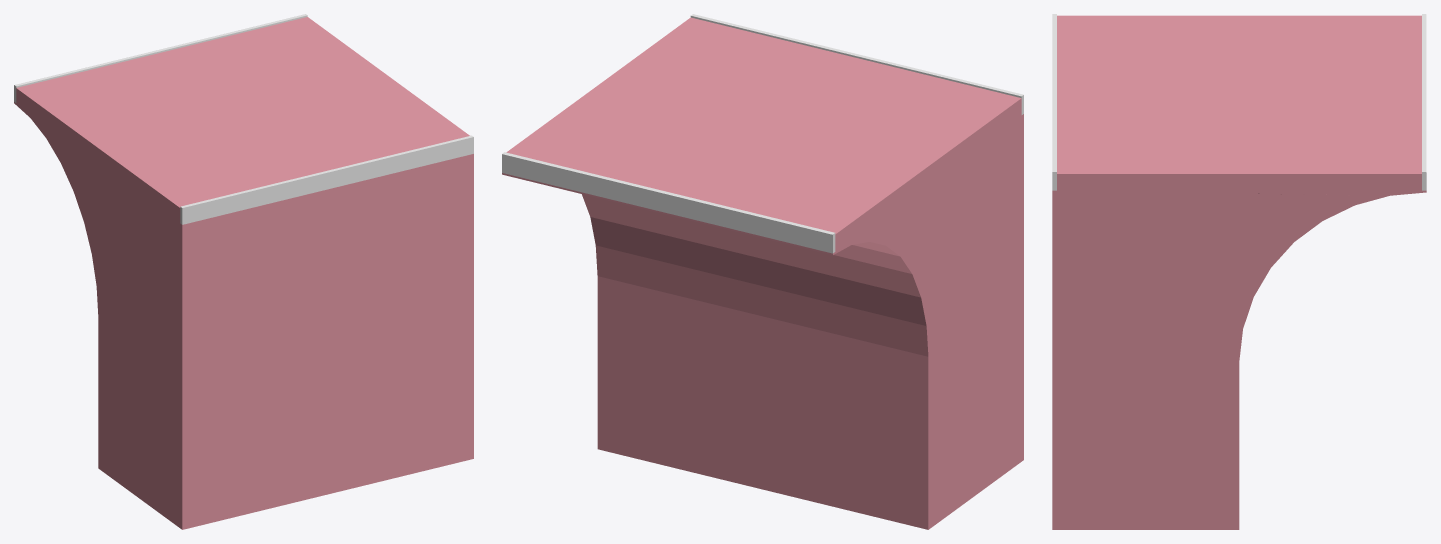
The model's file is table.fbx.
The picture shows the model from 3 angles, left to right: view 1: azimuth 30°, elevation 25°; view 2: azimuth 150°, elevation 25°; view 3: azimuth 270°, elevation 25°; orthographic projection. The views are drawn at different scales.
Parts seen in each view (by area): view 1: table_base, table_top, table_guard2, table_guard1; view 2: table_base, table_top, table_guard1, table_guard2; view 3: table_base, table_top, table_guard2, table_guard1.
Part boxes in pixels (x1,y1,x2,y2): table_base: (14,102,473,529); table_top: (16,17,469,222); table_guard2: (180,135,473,224); table_guard1: (14,14,307,102); table_base: (502,114,1023,529); table_top: (506,17,1021,251); table_guard1: (502,152,835,253); table_guard2: (690,14,1023,114); table_base: (1052,190,1426,529); table_top: (1057,15,1421,190); table_guard2: (1052,14,1056,190); table_guard1: (1422,14,1426,190).
Size of the model in its own units: 62 by 65.41 by 62.
Materials: 3 (3 with a texture image).
